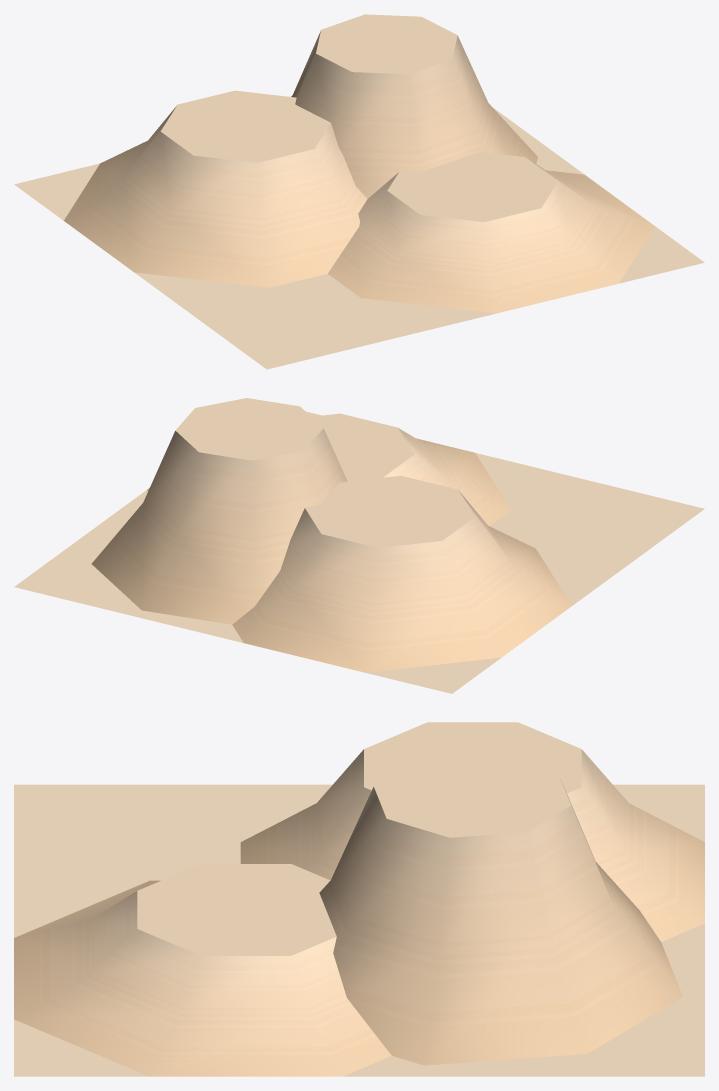
The model's file is ground-hills.glb.
3 renders of one model, top to bottom at view 1: azimuth 30°, elevation 25°; view 2: azimuth 150°, elevation 25°; view 3: azimuth 270°, elevation 25°, orthographic. The views are drawn at different scales.
Visible parts, largest first — view 1: ground-hills; view 2: ground-hills; view 3: ground-hills.
Boxes of the visible parts, x1,y1,x2,y2 form: ground-hills: [14, 14, 704, 369]; ground-hills: [14, 398, 704, 693]; ground-hills: [14, 722, 704, 1076].
Size of the model in its own units: 3 by 0.8649 by 3.
1 material, 1 textured.
